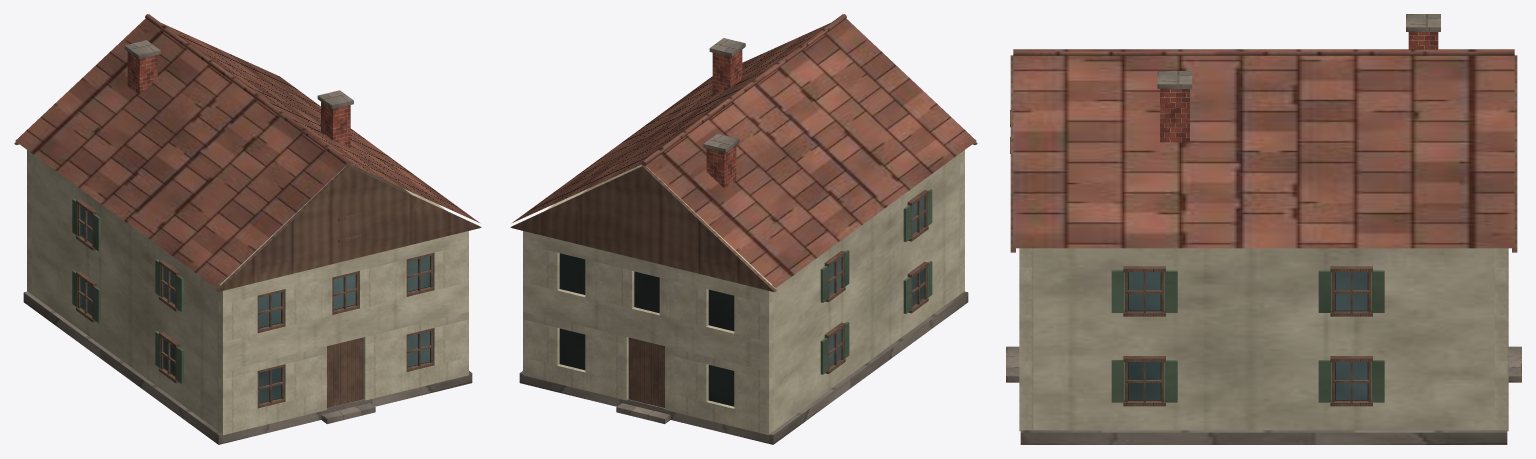
Rendered from house.glb.
3 views of the same model, side by side, from view 1: azimuth 30°, elevation 25°; view 2: azimuth 150°, elevation 25°; view 3: azimuth 270°, elevation 25° (orthographic). The views are drawn at different scales.
Parts seen in each view (by area): view 1: Rheinhaus; view 2: Rheinhaus; view 3: Rheinhaus.
Part boxes in pixels (x1,y1,x2,y2): Rheinhaus: [14, 14, 481, 444]; Rheinhaus: [510, 14, 977, 444]; Rheinhaus: [1006, 14, 1521, 444].
Bounding box in the file's own units: 8.18 × 7.61 × 11.06.
Materials: 1 (1 with a texture image).
